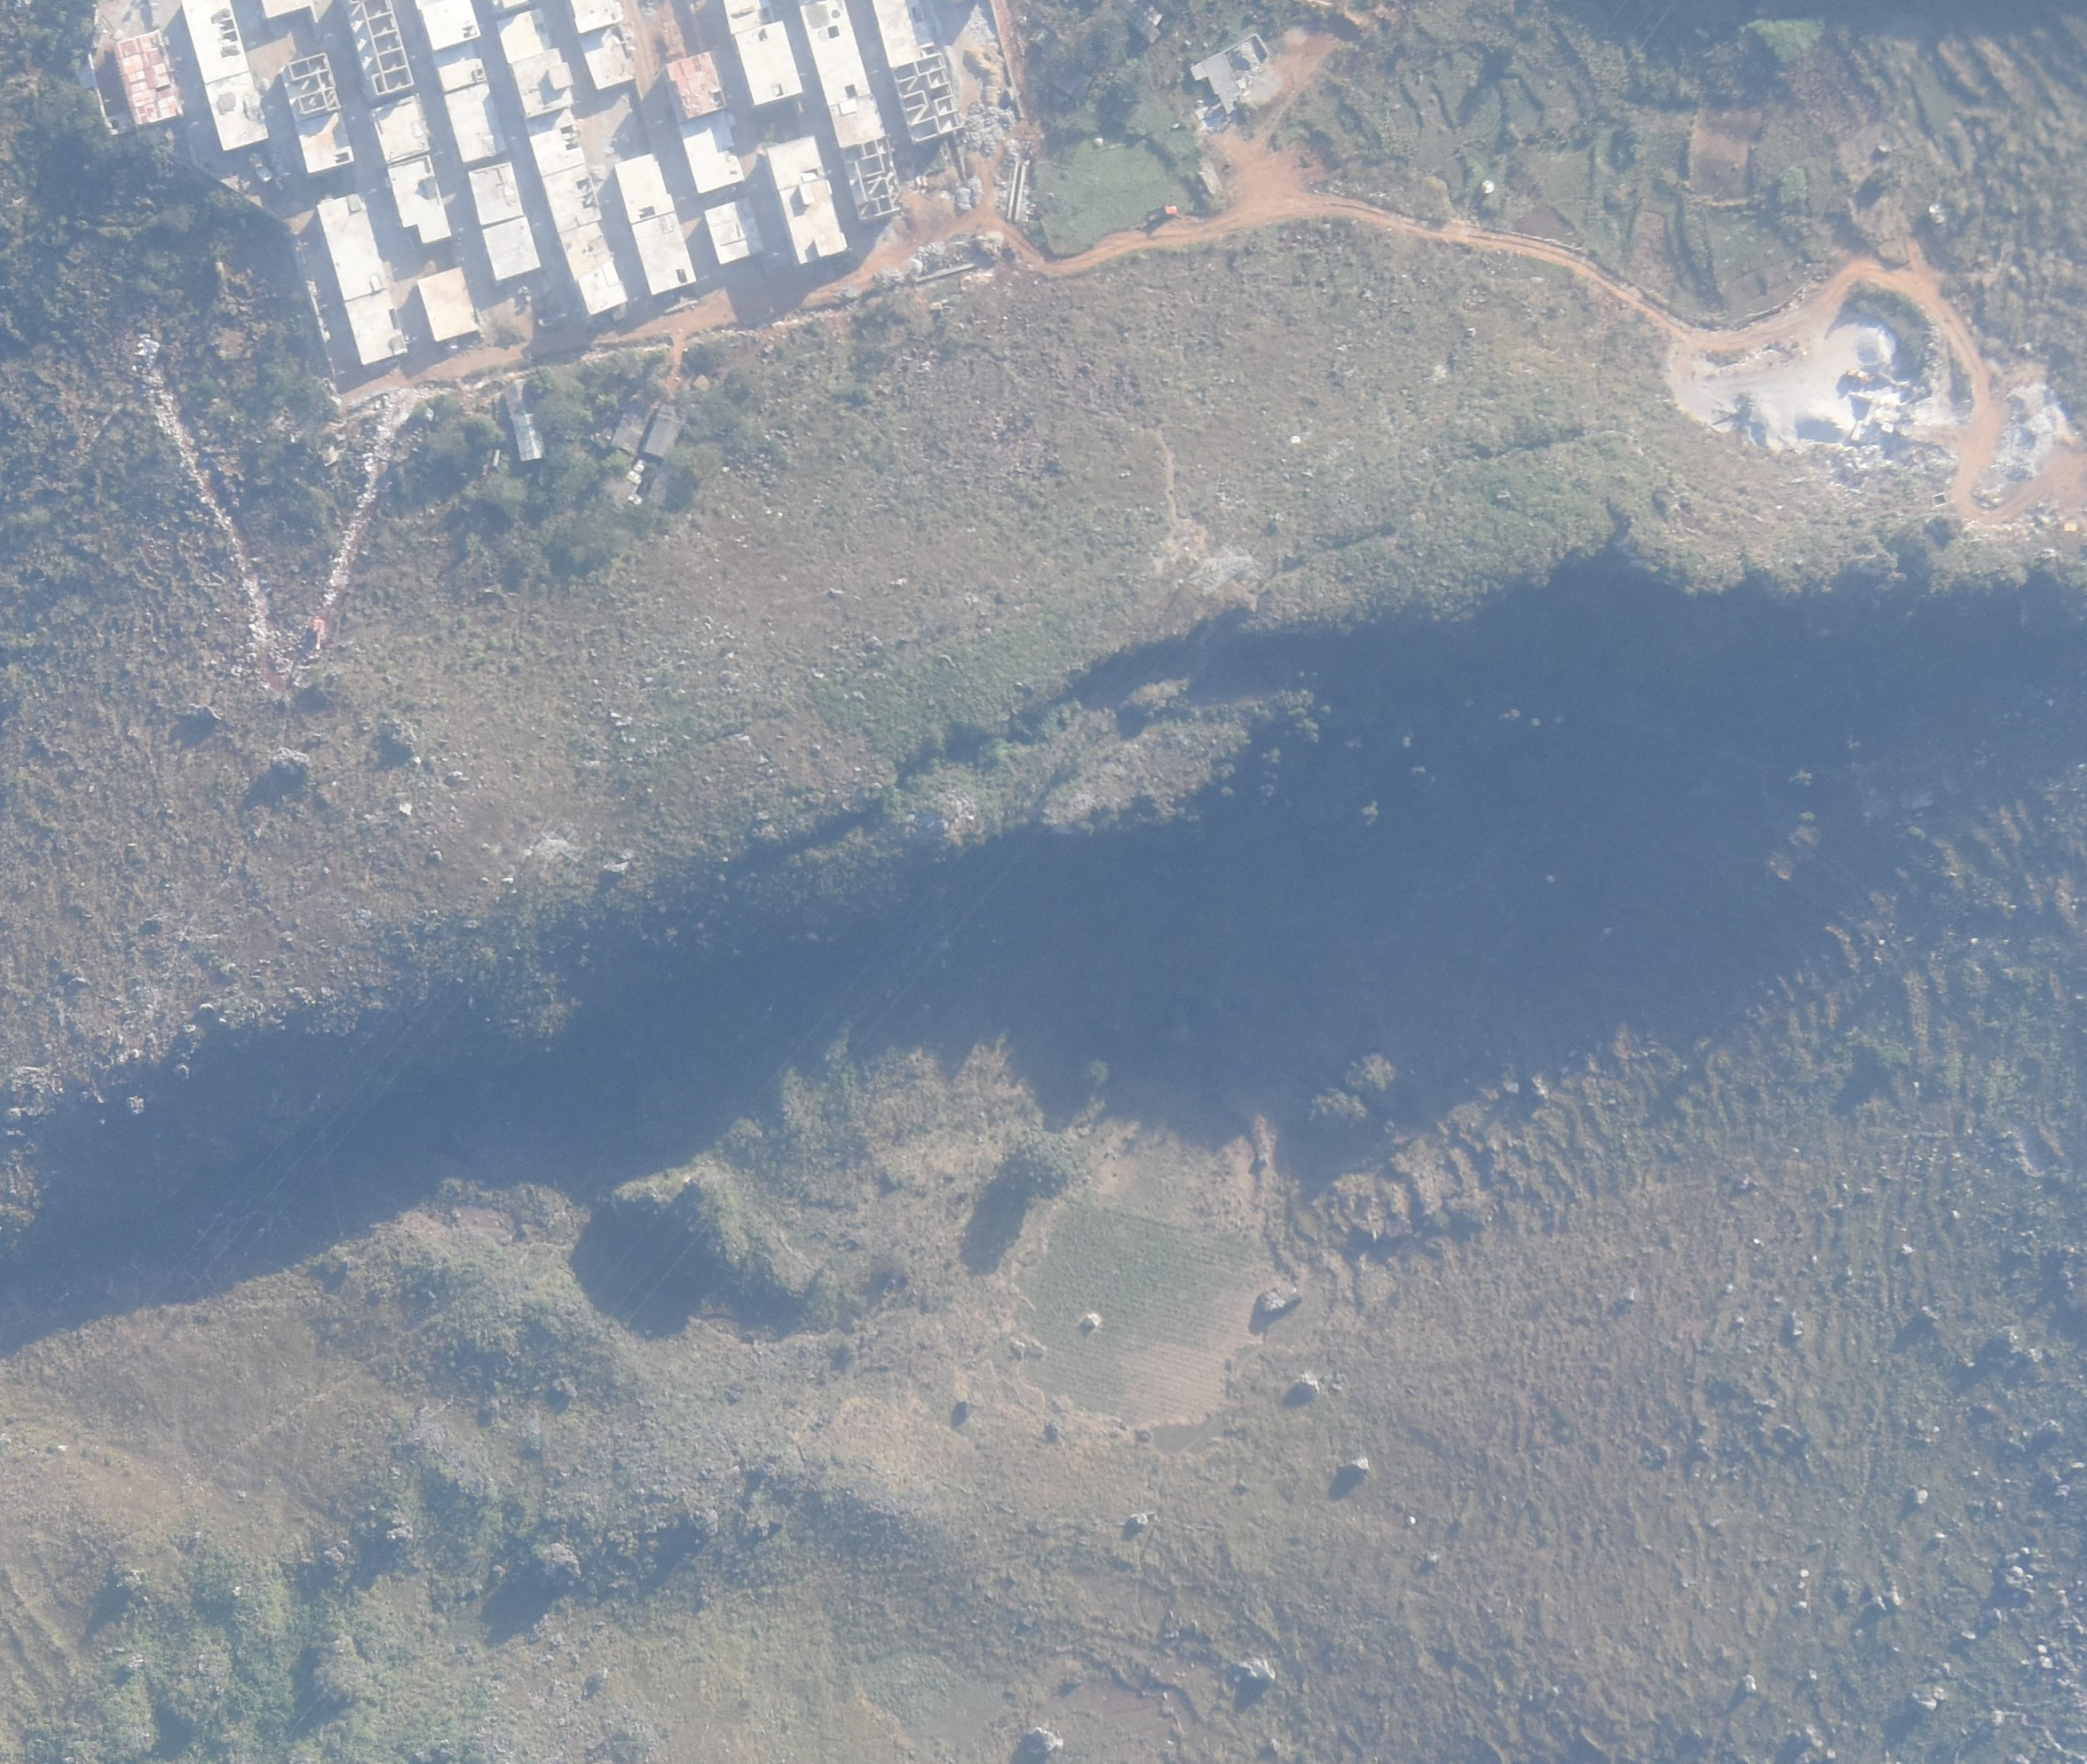building: (315, 194, 392, 299), (803, 2, 871, 105), (114, 28, 184, 128), (346, 2, 415, 98), (890, 56, 962, 145), (558, 224, 628, 315), (778, 179, 850, 266), (1190, 33, 1267, 112), (677, 112, 747, 194), (387, 156, 451, 243), (182, 4, 252, 82), (205, 70, 271, 152), (736, 23, 803, 105), (443, 82, 507, 163), (633, 212, 696, 294), (341, 289, 408, 364), (841, 140, 903, 220), (416, 266, 478, 341), (513, 47, 576, 117), (523, 107, 586, 177), (542, 161, 604, 233), (569, 21, 632, 89), (280, 53, 343, 121), (614, 154, 677, 222), (371, 93, 432, 163), (703, 201, 763, 271), (668, 51, 728, 119), (869, 2, 924, 73), (292, 112, 353, 175), (467, 161, 527, 226), (483, 219, 542, 282), (500, 378, 546, 460), (764, 136, 827, 192), (495, 9, 553, 63), (829, 95, 887, 149), (422, 2, 481, 49), (434, 42, 488, 91), (644, 401, 688, 458), (569, 2, 628, 32), (724, 2, 778, 33), (611, 410, 646, 457), (1127, 2, 1167, 42)
cable-tower: (1190, 556, 1260, 595)
quarry: (1665, 306, 1926, 450)
well: (1480, 180, 1494, 192)
